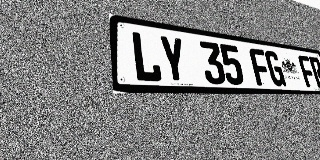3: (199, 41, 227, 85)
5: (219, 44, 245, 85)
F: (248, 48, 272, 86), (297, 55, 318, 87)
G: (264, 50, 287, 86)
L: (130, 31, 163, 83)
R: (308, 56, 320, 88)
Y: (158, 35, 189, 83)
